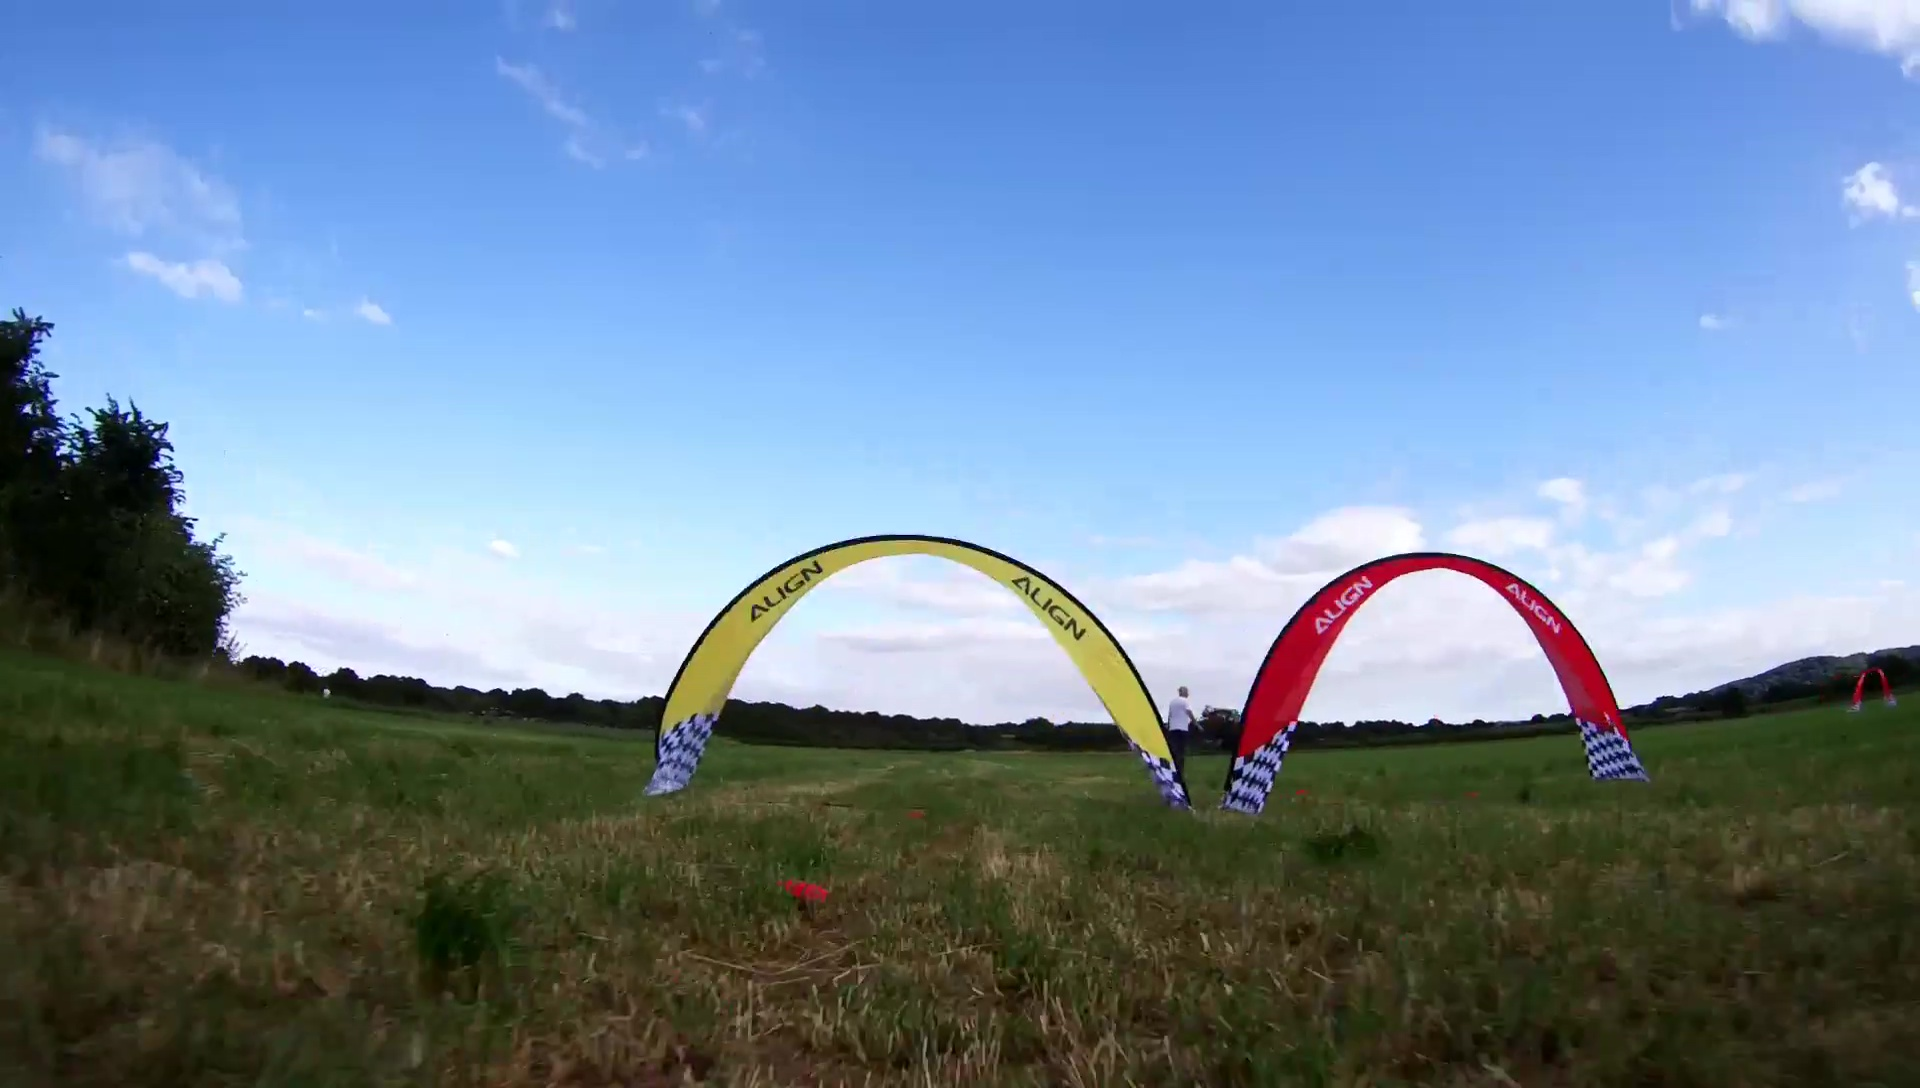gate: (651, 531, 1199, 816), (1218, 549, 1648, 814), (1851, 663, 1896, 712)
